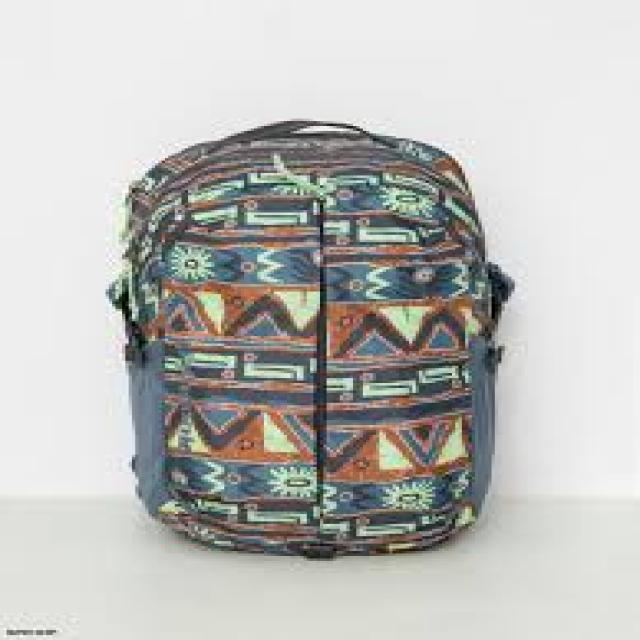backpack: (102, 116, 515, 559)
